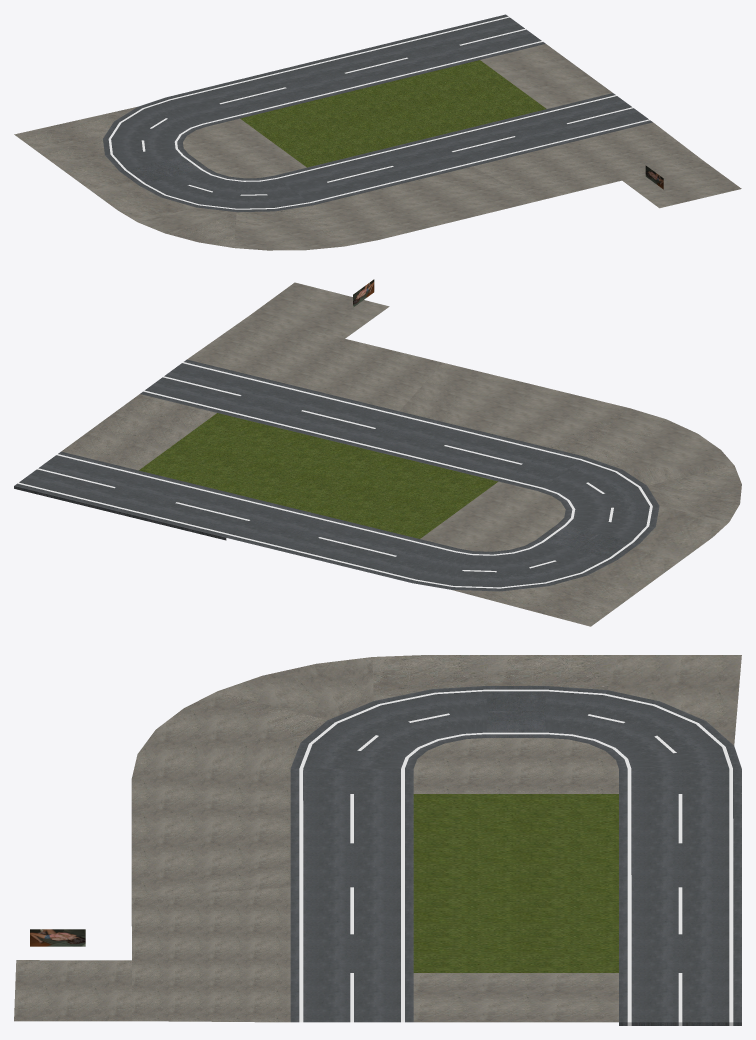
The model's file is lasrnway5_las.obj.
3 views of the same model, one above another, from view 1: azimuth 30°, elevation 25°; view 2: azimuth 150°, elevation 25°; view 3: azimuth 270°, elevation 25° (orthographic). The views are drawn at different scales.
Visible parts, largest first — view 1: lasrnway5_LAS; view 2: lasrnway5_LAS; view 3: lasrnway5_LAS.
Part boxes in pixels (<box>): lasrnway5_LAS: <box>14,14,741,250</box>; lasrnway5_LAS: <box>14,279,741,626</box>; lasrnway5_LAS: <box>14,655,741,1025</box>.
Size of the model in its own units: 263 by 13.65 by 220.
